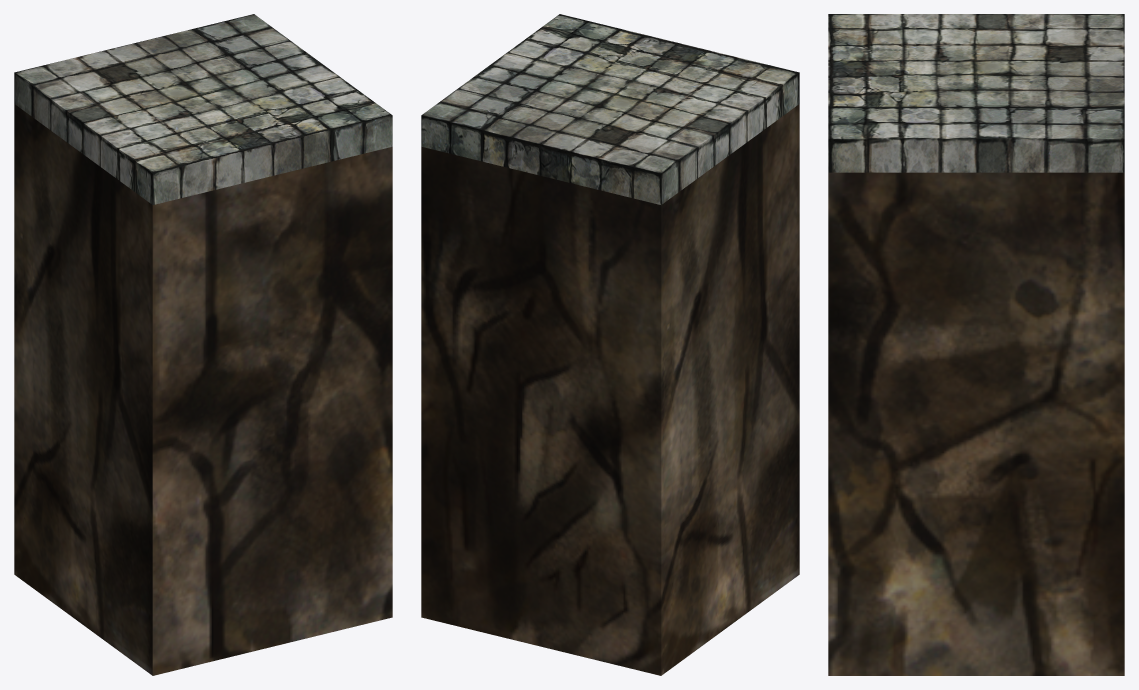
The model's file is STR_FloorTileMidDeep.FBX.
The picture shows the model from 3 angles, left to right: view 1: azimuth 30°, elevation 25°; view 2: azimuth 150°, elevation 25°; view 3: azimuth 270°, elevation 25°; orthographic projection. The views are drawn at different scales.
Visible parts, largest first — view 1: STR_FloorTileMidDeep; view 2: STR_FloorTileMidDeep; view 3: STR_FloorTileMidDeep.
Part boxes in pixels (x1,y1,x2,y2): STR_FloorTileMidDeep: (14, 14, 392, 675); STR_FloorTileMidDeep: (421, 14, 799, 675); STR_FloorTileMidDeep: (828, 14, 1124, 675).
Size of the model in its own units: 400 by 800 by 400.
